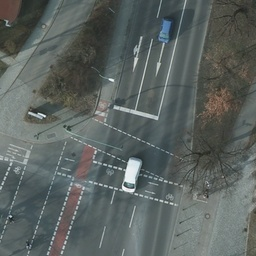car: (121, 154, 142, 192), (158, 17, 173, 43)
